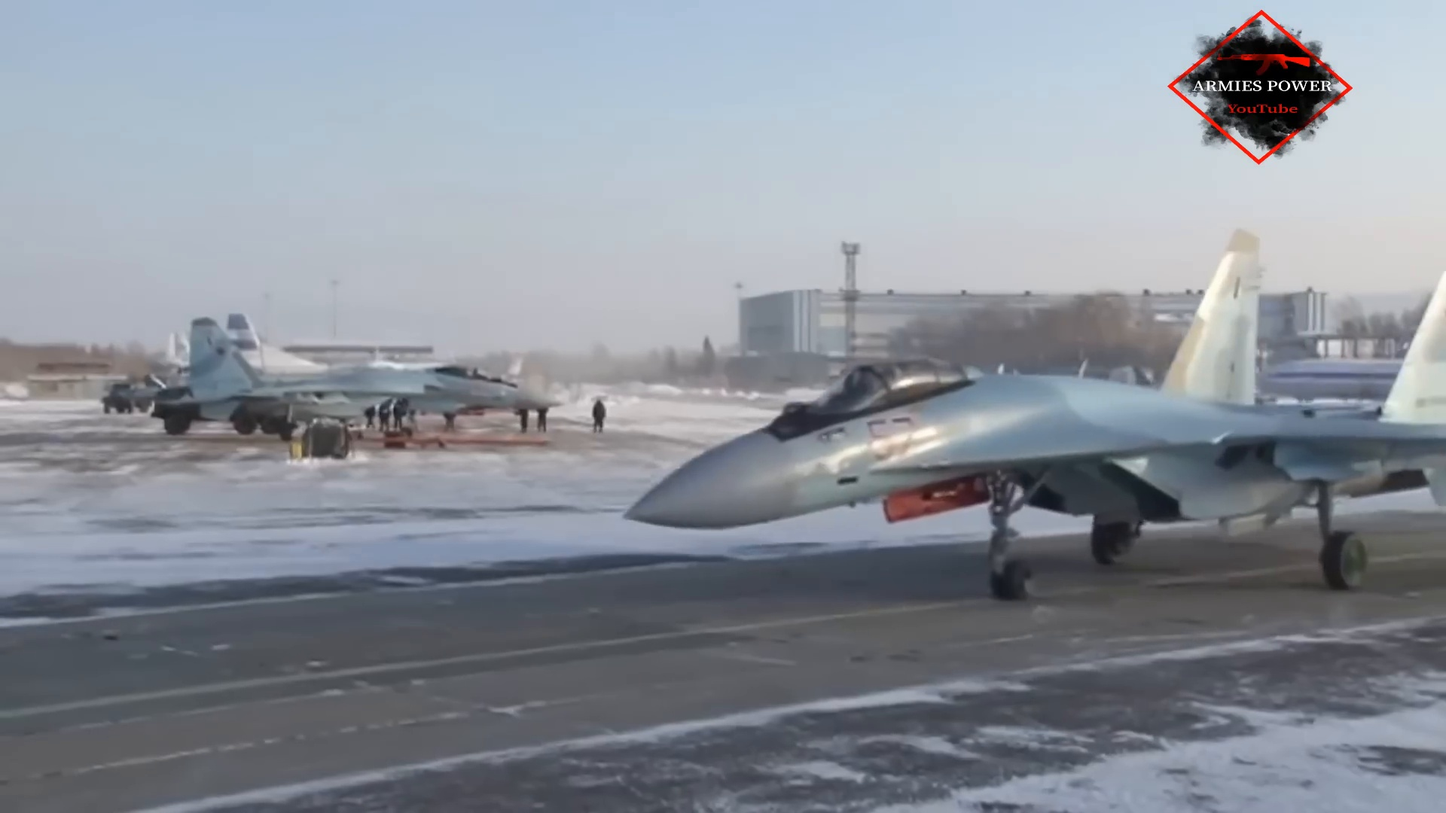Su35: (628, 228, 1446, 598), (191, 318, 560, 443)
